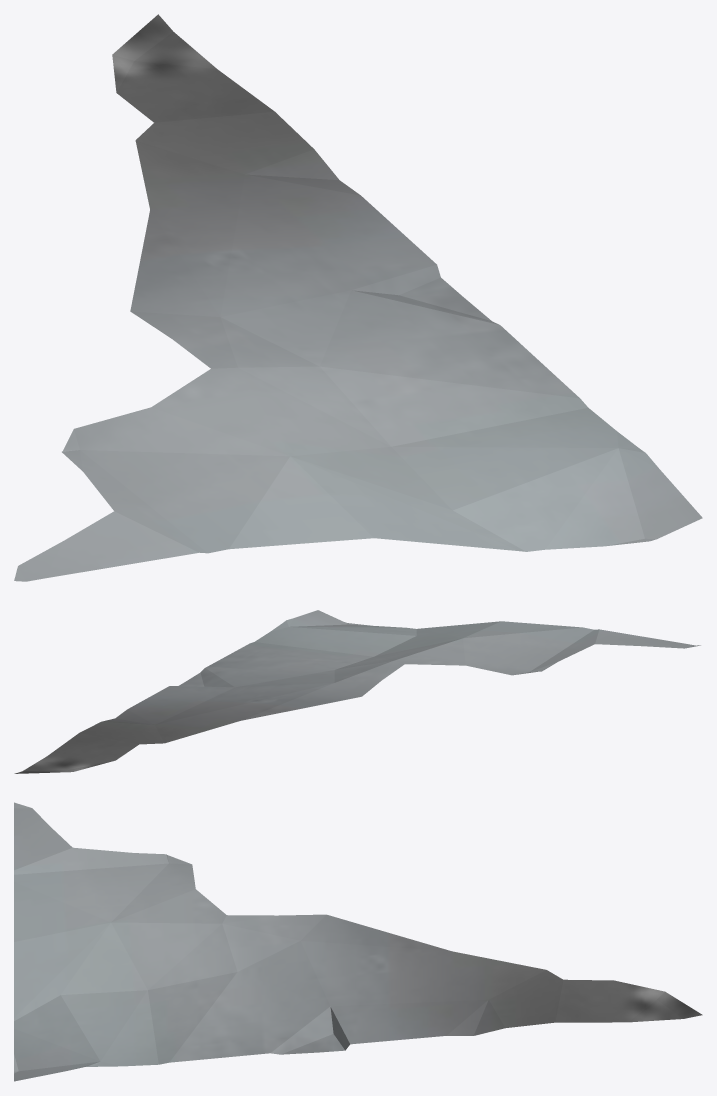
3 renders of one model, top to bottom at view 1: azimuth 30°, elevation 25°; view 2: azimuth 150°, elevation 25°; view 3: azimuth 270°, elevation 25°, orthographic. The views are drawn at different scales.
Bounding box in the file's own units: 0.4006 × 0.0642 × 0.5485.
1 material, 1 textured.
